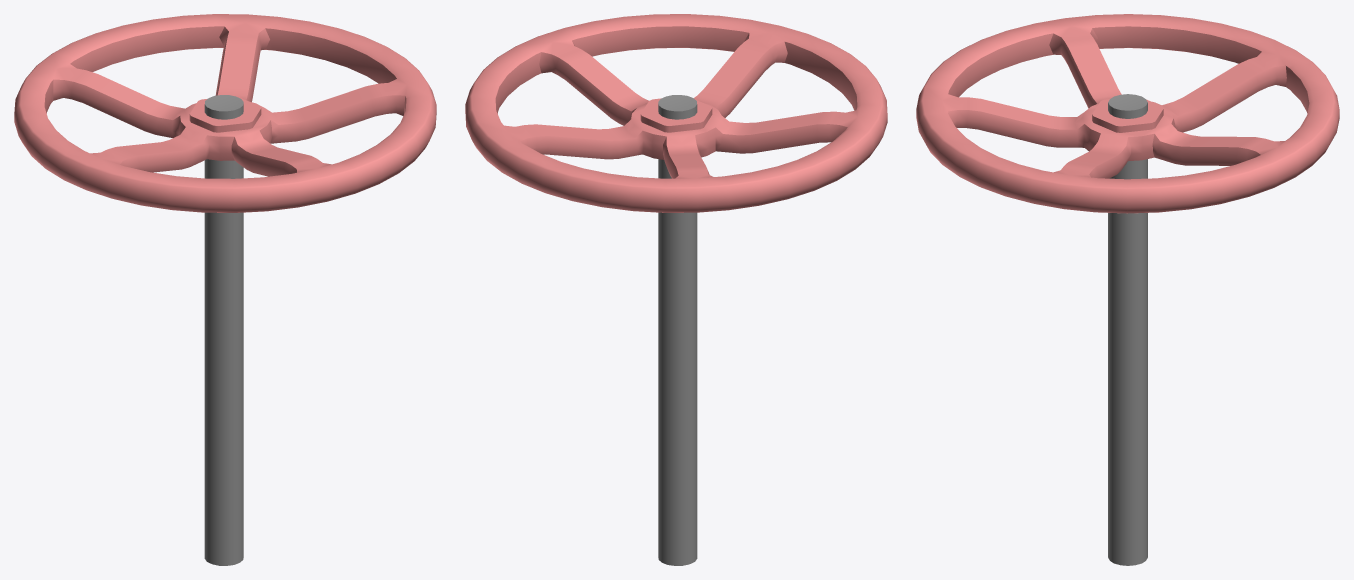
Rendered from SM_Sliv_All_Zadvizhka.gltf.
3 views of the same model, side by side, from view 1: azimuth 30°, elevation 25°; view 2: azimuth 150°, elevation 25°; view 3: azimuth 270°, elevation 25° (orthographic).
Parts seen in each view (by area): view 1: SM_Sliv_All_Zadvizhka; view 2: SM_Sliv_All_Zadvizhka; view 3: SM_Sliv_All_Zadvizhka.
Part boxes in pixels (x1,y1,x2,y2): SM_Sliv_All_Zadvizhka: (14, 14, 436, 565); SM_Sliv_All_Zadvizhka: (465, 14, 887, 565); SM_Sliv_All_Zadvizhka: (916, 14, 1339, 565).
Bounding box in the file's own units: 0.3147 × 0.3753 × 0.3147.
